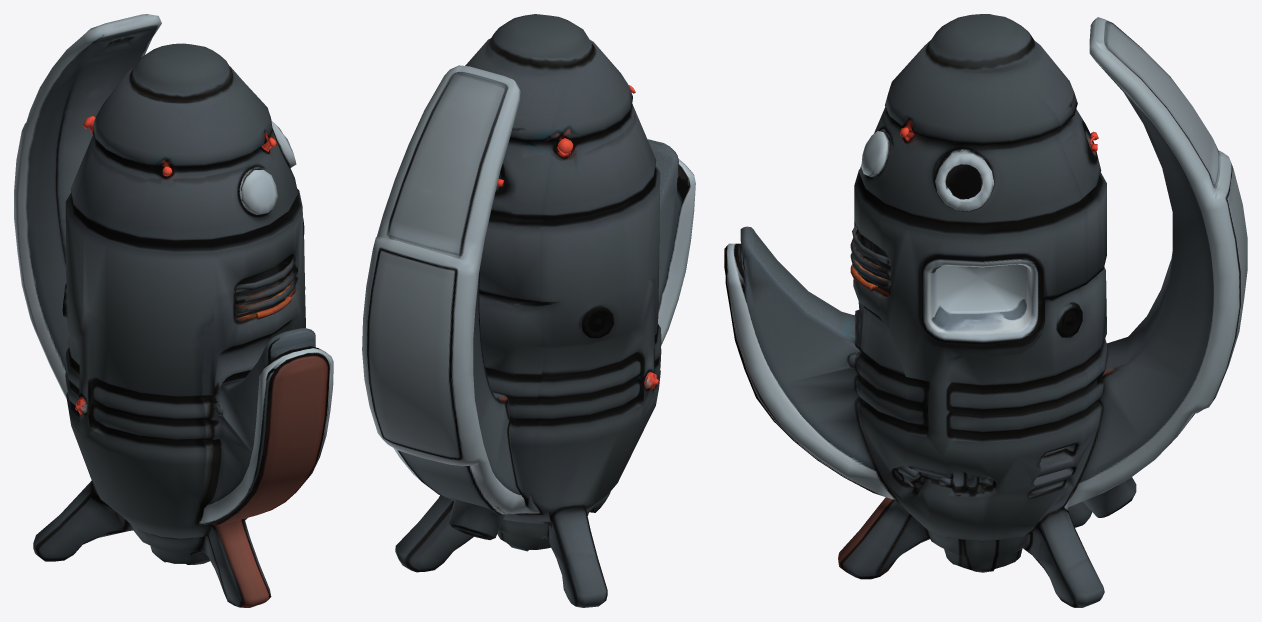
Rendered from missile_01b33faf_decoded.glb.
The picture shows the model from 3 angles, left to right: view 1: azimuth 30°, elevation 25°; view 2: azimuth 150°, elevation 25°; view 3: azimuth 270°, elevation 25°; orthographic projection. The views are drawn at different scales.
Visible parts, largest first — view 1: hp_reference_node_7ca57341-85b6-4b5c-8e81-bb5348856923; view 2: hp_reference_node_7ca57341-85b6-4b5c-8e81-bb5348856923; view 3: hp_reference_node_7ca57341-85b6-4b5c-8e81-bb5348856923.
Boxes of the visible parts, bbox=[...] form: hp_reference_node_7ca57341-85b6-4b5c-8e81-bb5348856923: bbox=[14, 14, 333, 607]; hp_reference_node_7ca57341-85b6-4b5c-8e81-bb5348856923: bbox=[362, 14, 695, 607]; hp_reference_node_7ca57341-85b6-4b5c-8e81-bb5348856923: bbox=[724, 14, 1247, 607].
Bounding box in the file's own units: 0.4434 × 0.998 × 0.873.
1 material, 1 textured.
